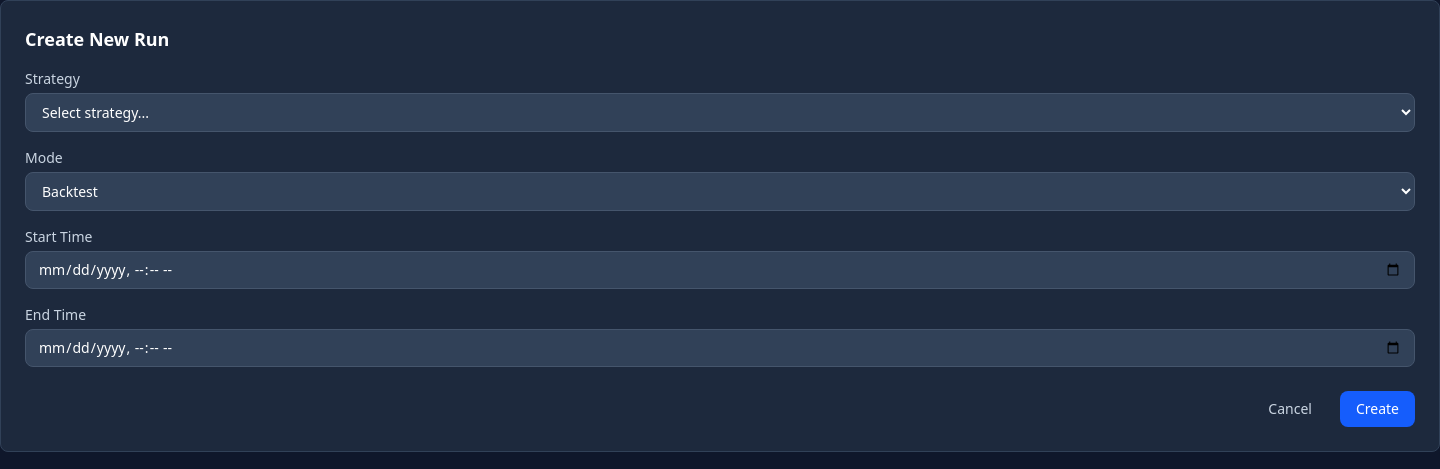
Test: CreateRunForm — M13-6 backtest date fields › hides date inputs when mode is paper
Select "Paper" in the dropdown labelled "Mode" at (720, 192), box left=25, top=172, right=1415, bottom=211
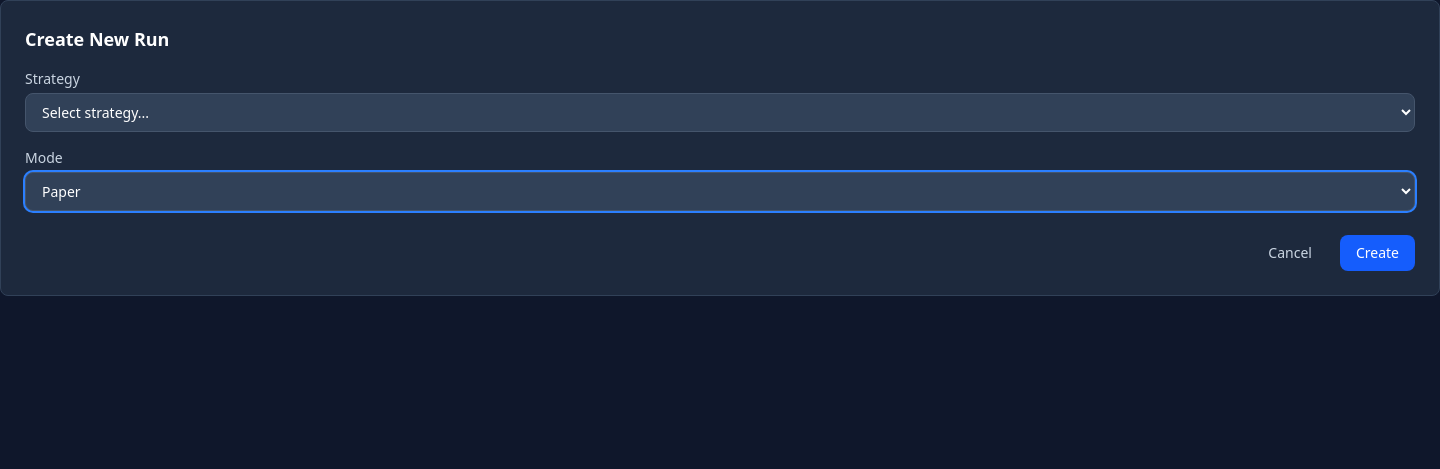
Expected: the label labelled "Start Time" is gone
Expected: the label labelled "End Time" is gone
